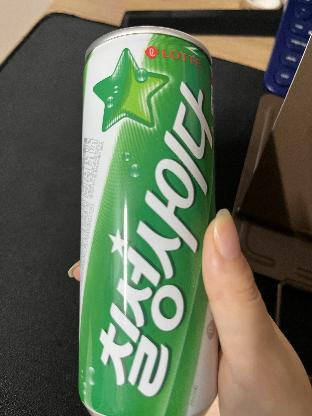Can: (77, 25, 222, 415)
